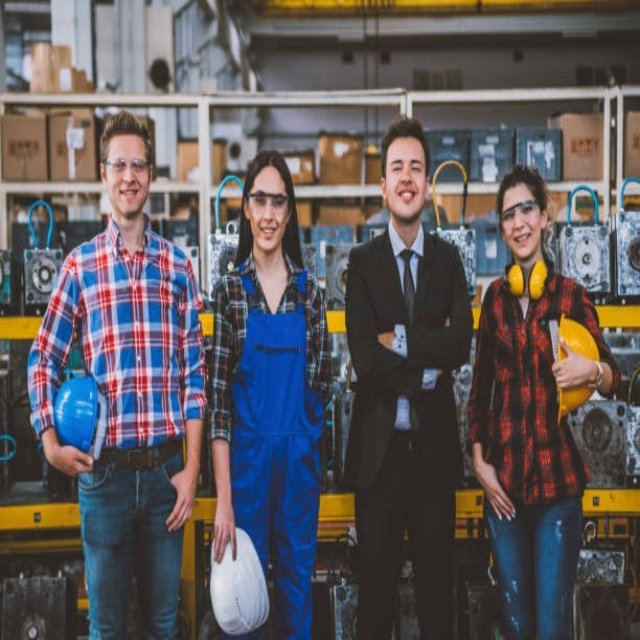Gafas: (247, 191, 290, 215), (500, 199, 541, 224), (103, 157, 152, 175)
Sin_gafas: (387, 154, 426, 176)
Sin_guantes: (164, 463, 202, 533), (475, 464, 517, 521), (550, 336, 593, 391), (209, 499, 242, 565), (46, 444, 96, 485)
Sin_mascara: (117, 185, 140, 213), (511, 226, 538, 249), (256, 221, 277, 248), (392, 187, 415, 209)
